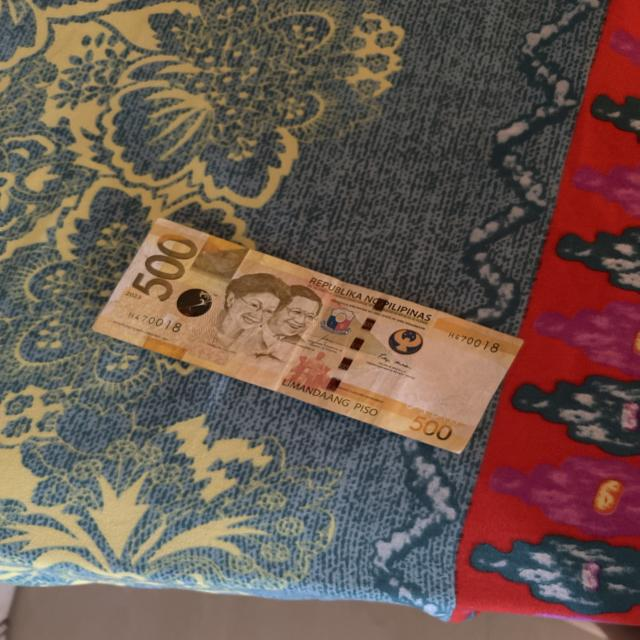concealed_value: (200, 239, 244, 274)
optically_variable_device: (179, 288, 219, 319)
value: (117, 234, 201, 305)
watermark: (413, 341, 495, 410)
